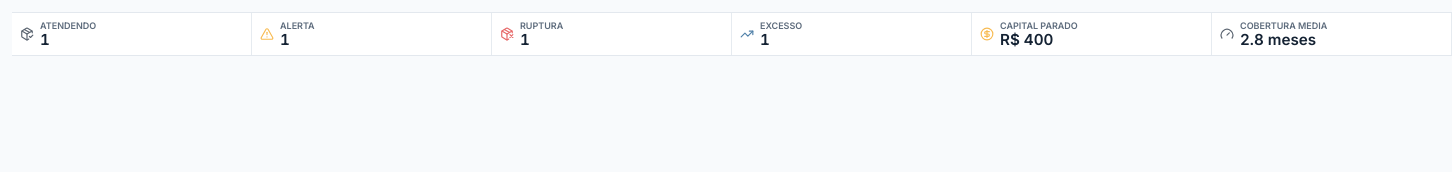
Test: GiroManagementPanel › associa cada controle ao texto de ajuda por aria-describedby
Focus the button with aria-label "Alerta: 1" at (372, 34), box x1=252 y1=13 x2=492 y2=55
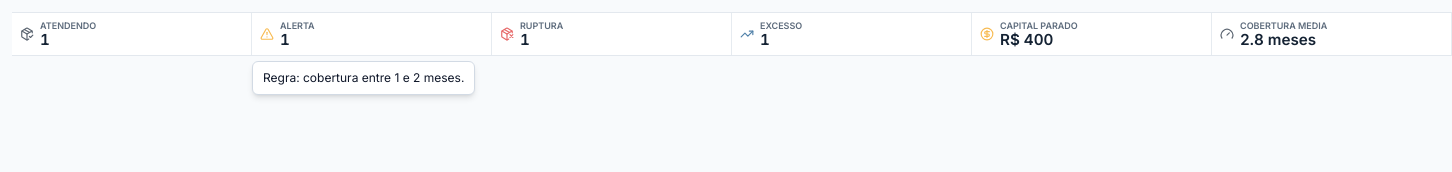
Result: the tooltip shows "cobertura entre 1 e 2 meses" at x1=263 y1=70 x2=464 y2=85
